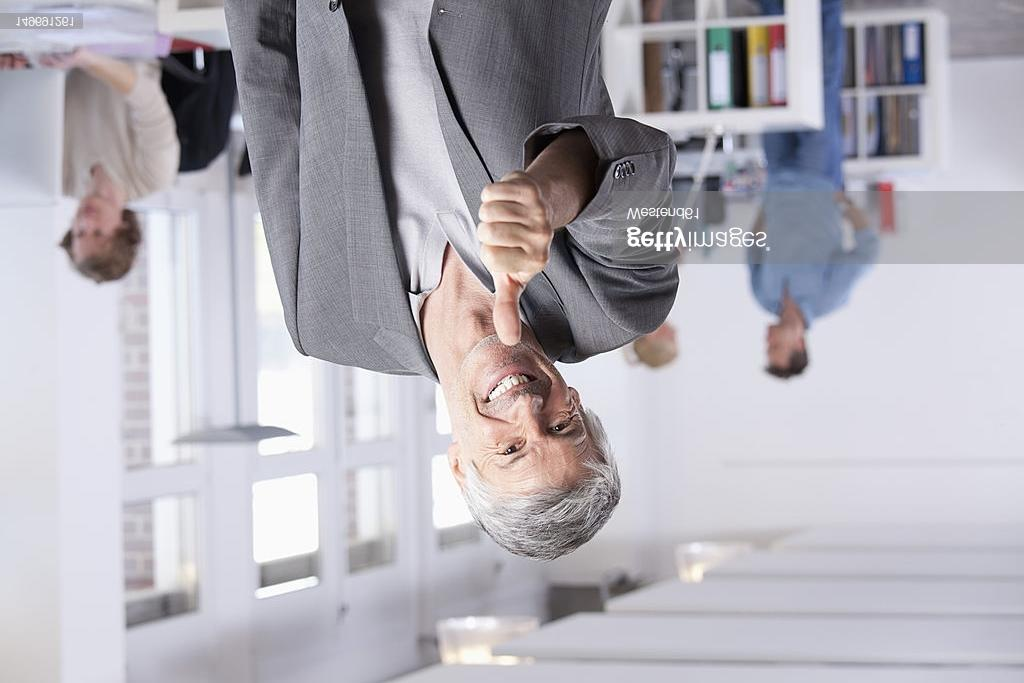thumbsdown: (475, 179, 555, 346)
